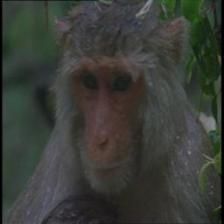monkey: (44, 0, 198, 206)
